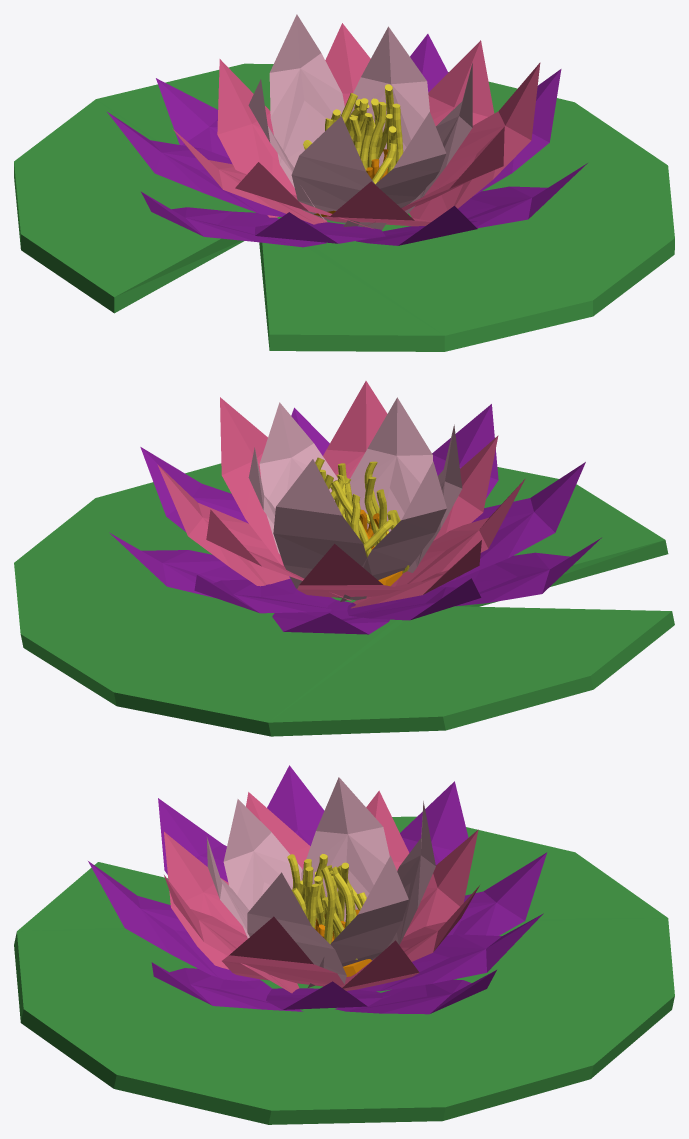
The model's file is modelDraco.gltf.
3 views of the same model, one above another, from view 1: azimuth 30°, elevation 25°; view 2: azimuth 150°, elevation 25°; view 3: azimuth 270°, elevation 25° (orthographic).
Visible parts, largest first — view 1: node_MeshObject-1316812352-PolyPaper10, node_MeshObject-1748210944-PolyPaper12; view 2: node_MeshObject-1316812352-PolyPaper10, node_MeshObject-1748210944-PolyPaper12; view 3: node_MeshObject-1316812352-PolyPaper10, node_MeshObject-1748210944-PolyPaper12.
Boxes of the visible parts, x1,y1,x2,y2 form: node_MeshObject-1316812352-PolyPaper10: [14, 14, 674, 351]; node_MeshObject-1748210944-PolyPaper12: [303, 93, 396, 213]; node_MeshObject-1316812352-PolyPaper10: [14, 381, 674, 736]; node_MeshObject-1748210944-PolyPaper12: [330, 474, 409, 572]; node_MeshObject-1316812352-PolyPaper10: [14, 765, 674, 1124]; node_MeshObject-1748210944-PolyPaper12: [292, 862, 366, 959].
Size of the model in its own units: 0.8308 by 0.2611 by 0.8324.
